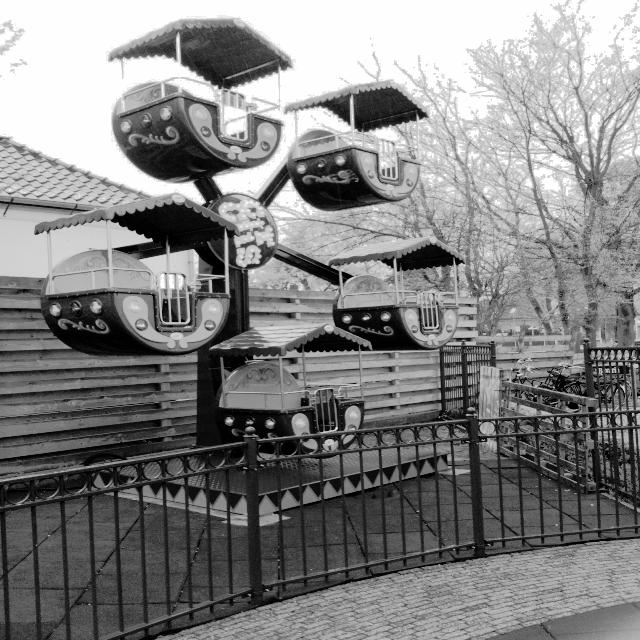fences: (28, 442, 383, 640), (411, 410, 629, 566)
